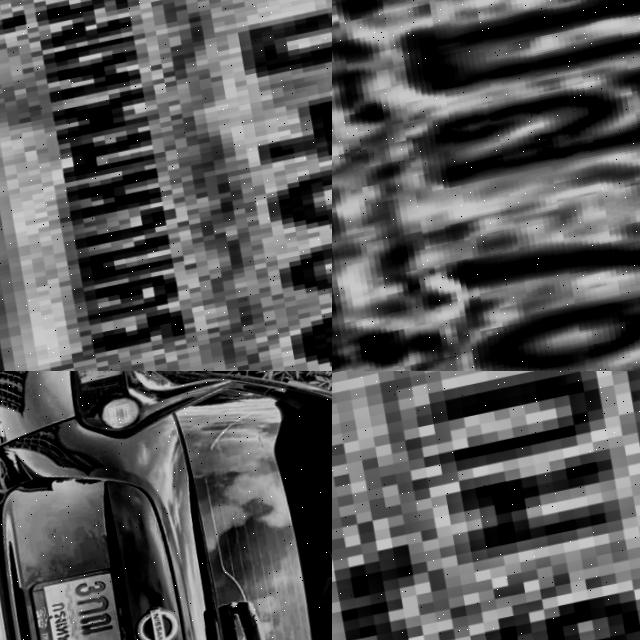license-plate: (0, 0, 332, 371), (332, 0, 640, 371), (332, 371, 640, 640), (16, 559, 157, 640)
